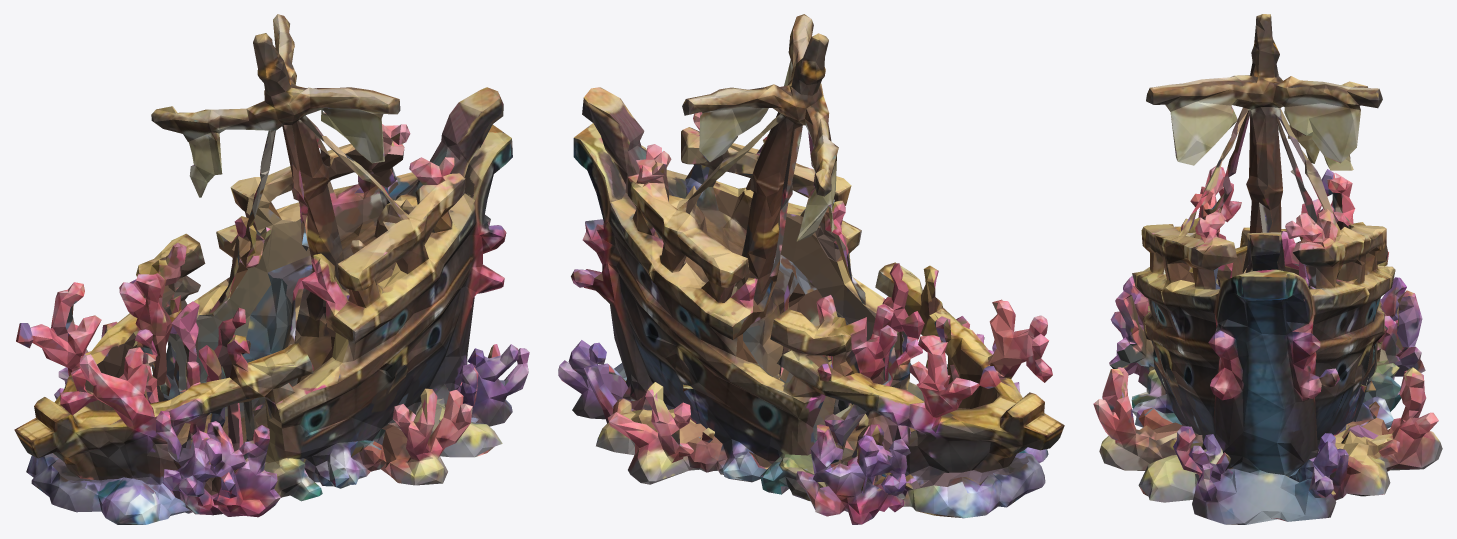
Rendered from sea_ruined_ship_1117.glb.
3 renders of one model, left to right at view 1: azimuth 30°, elevation 25°; view 2: azimuth 150°, elevation 25°; view 3: azimuth 270°, elevation 25°, orthographic. The views are drawn at different scales.
Visible parts, largest first — view 1: tmp0hedqvtn.ply; view 2: tmp0hedqvtn.ply; view 3: tmp0hedqvtn.ply.
Part boxes in pixels (x1,y1,x2,y2): tmp0hedqvtn.ply: (14,14,529,524); tmp0hedqvtn.ply: (558,14,1064,524); tmp0hedqvtn.ply: (1093,14,1442,524).
Bounding box in the file's own units: 1.99 × 1.67 × 1.29.
1 material, 1 textured.
